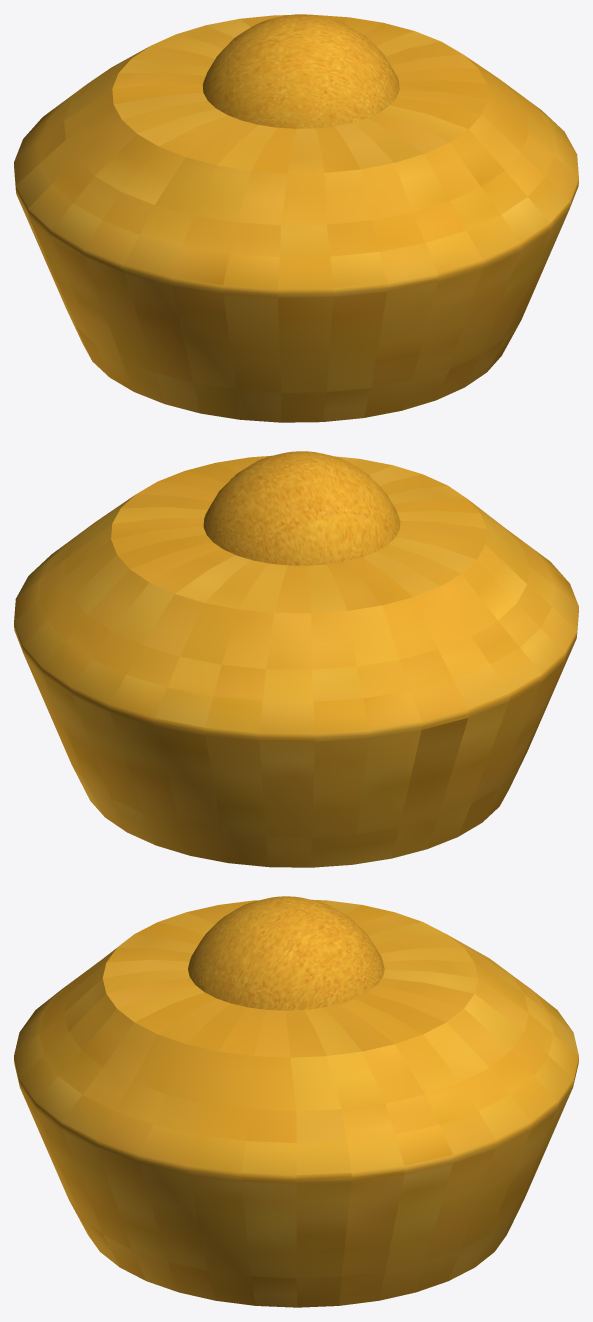
Rendered from kenongsmooth.fbx.
3 renders of one model, top to bottom at view 1: azimuth 30°, elevation 25°; view 2: azimuth 150°, elevation 25°; view 3: azimuth 270°, elevation 25°, orthographic.
Visible parts, largest first — view 1: Cylinder, Sphere; view 2: Cylinder, Sphere; view 3: Cylinder, Sphere.
Boxes of the visible parts, box(x1,y1,x2,y2) form: Cylinder: box(14, 14, 578, 422); Sphere: box(202, 14, 399, 128); Cylinder: box(14, 455, 578, 867); Sphere: box(203, 451, 400, 565); Cylinder: box(14, 899, 578, 1307); Sphere: box(188, 896, 384, 1010).
Bounding box in the file's own units: 243 × 148 × 243.
Materials: 2 (2 with a texture image).
